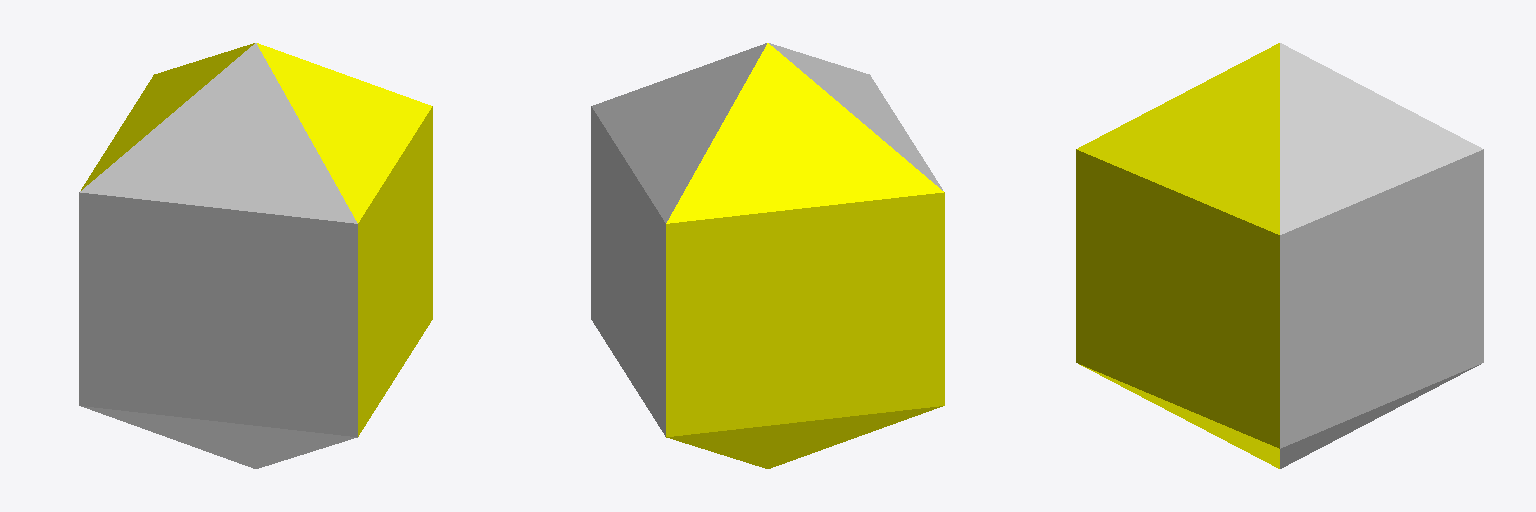
File: shield.obj
The picture shows the model from 3 angles: view 1: azimuth 30°, elevation 25°; view 2: azimuth 150°, elevation 25°; view 3: azimuth 270°, elevation 25°; orthographic projection.
Visible parts, largest first — view 1: Sphere; view 2: Sphere; view 3: Sphere.
Part boxes in pixels (bbox=[...]): Sphere: bbox=[79, 43, 432, 468]; Sphere: bbox=[591, 43, 944, 468]; Sphere: bbox=[1076, 43, 1483, 468].
Bounding box in the file's own units: 1.73 × 2 × 1.73.